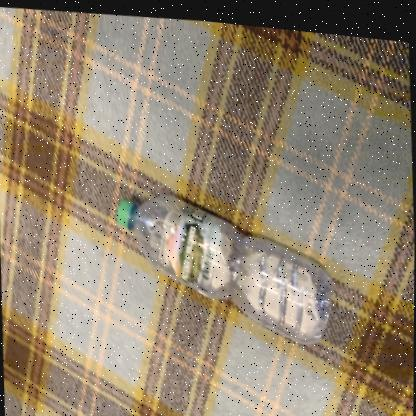Plastic: (116, 192, 332, 337)
